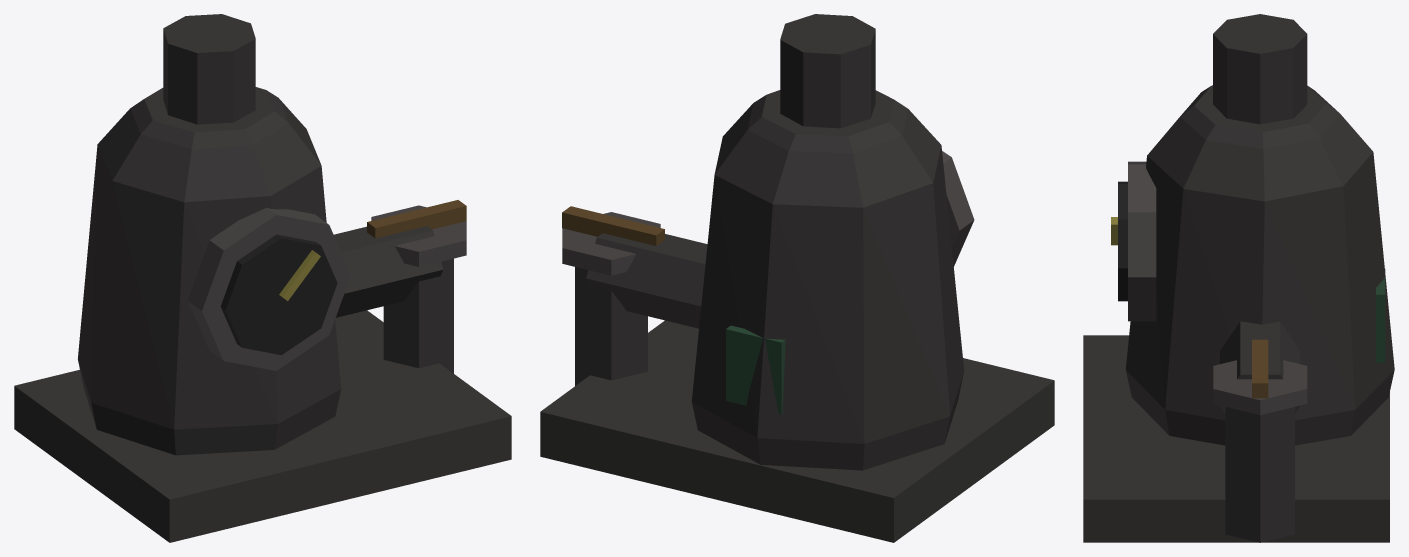
Rendered from pressure_pump.glb.
The picture shows the model from 3 angles, left to right: view 1: azimuth 30°, elevation 25°; view 2: azimuth 150°, elevation 25°; view 3: azimuth 270°, elevation 25°; orthographic projection. The views are drawn at different scales.
Visible parts, largest first — view 1: pressure_pump; view 2: pressure_pump; view 3: pressure_pump.
Part boxes in pixels (bbox=[...]): pressure_pump: bbox=[14, 14, 511, 542]; pressure_pump: bbox=[540, 14, 1054, 542]; pressure_pump: bbox=[1083, 14, 1394, 542].
Bounding box in the file's own units: 1.86 × 1.9 × 1.32.
